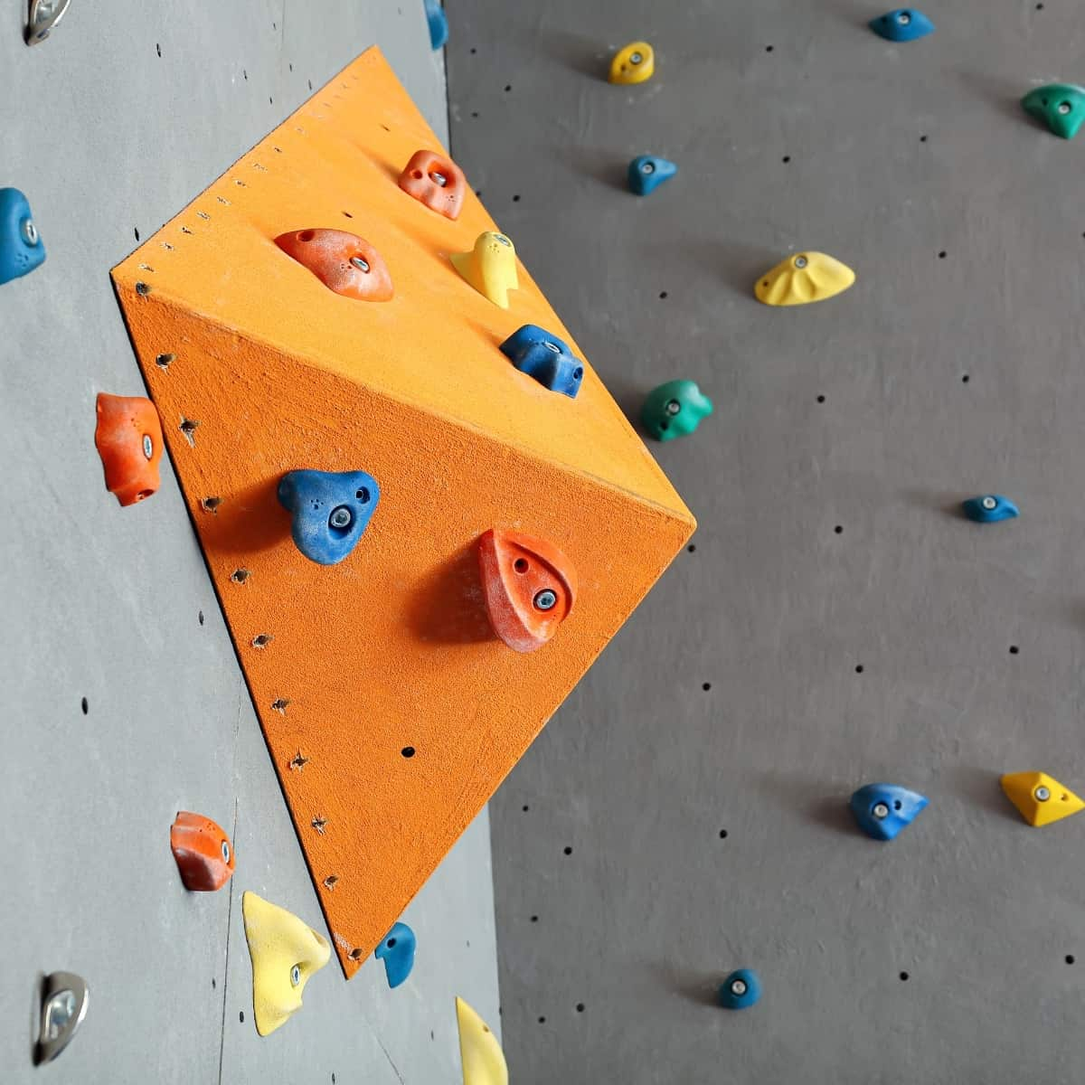hold: (242, 892, 330, 1036), (478, 529, 574, 653), (278, 469, 380, 565), (274, 229, 393, 301), (95, 392, 164, 505), (499, 325, 583, 398), (754, 251, 854, 307), (450, 231, 518, 307), (171, 811, 233, 892), (398, 150, 467, 219), (1000, 772, 1084, 827), (849, 783, 928, 841), (456, 998, 508, 1084), (0, 187, 45, 285), (641, 380, 712, 442), (1021, 84, 1084, 138), (374, 922, 416, 987), (869, 8, 934, 42), (24, 0, 70, 45), (627, 155, 676, 196), (608, 42, 654, 83), (717, 968, 760, 1009), (962, 495, 1018, 523), (422, 0, 448, 50)
volume: (111, 49, 695, 978)
